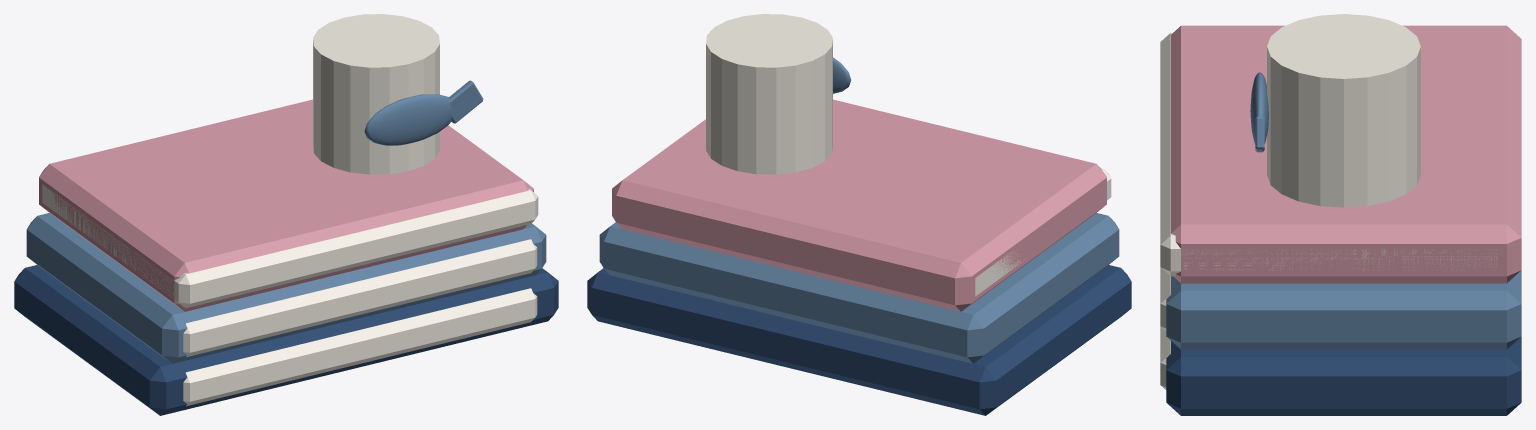
The model's file is decor_09.glb.
The picture shows the model from 3 angles, left to right: view 1: azimuth 30°, elevation 25°; view 2: azimuth 150°, elevation 25°; view 3: azimuth 270°, elevation 25°; orthographic projection. The views are drawn at different scales.
Visible parts, largest first — view 1: BookStack (×3), BookPages (×3), WhaleMug, WhaleBody, WhaleTail; view 2: BookStack (×3), WhaleMug, BookPages; view 3: BookStack (×3), WhaleMug, BookPages (×3), WhaleBody, WhaleTail.
Boxes of the visible parts, x1=… form: BookStack (×3): x1=14, y1=99, x2=558, y2=415; BookPages (×3): x1=42, y1=184, x2=538, y2=406; WhaleMug: x1=313, y1=14, x2=439, y2=174; WhaleBody: x1=364, y1=94, x2=452, y2=145; WhaleTail: x1=448, y1=80, x2=483, y2=123; BookStack (×3): x1=587, y1=99, x2=1131, y2=415; WhaleMug: x1=706, y1=14, x2=832, y2=174; BookPages: x1=975, y1=168, x2=1111, y2=296; BookStack (×3): x1=1166, y1=25, x2=1521, y2=415; WhaleMug: x1=1267, y1=14, x2=1420, y2=207; BookPages (×3): x1=1160, y1=33, x2=1497, y2=389; WhaleBody: x1=1250, y1=72, x2=1268, y2=143; WhaleTail: x1=1255, y1=116, x2=1264, y2=152.
Size of the model in its own units: 0.48 by 0.2875 by 0.305.
